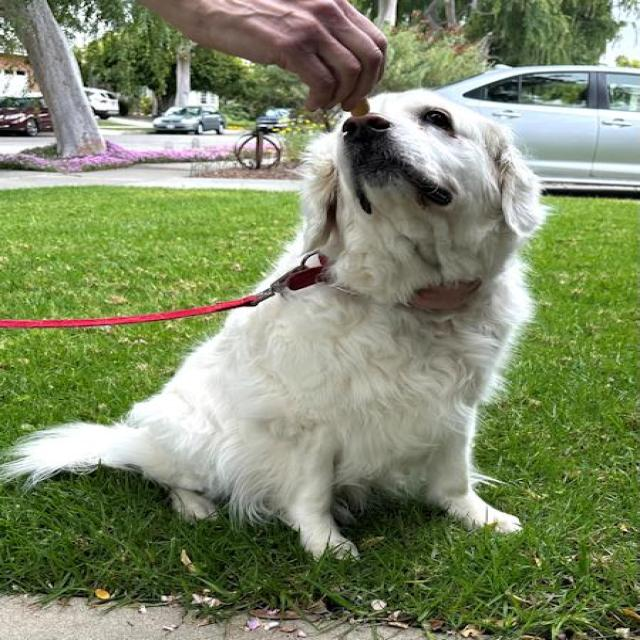golden_retriever_dog: (268, 81, 543, 301)
